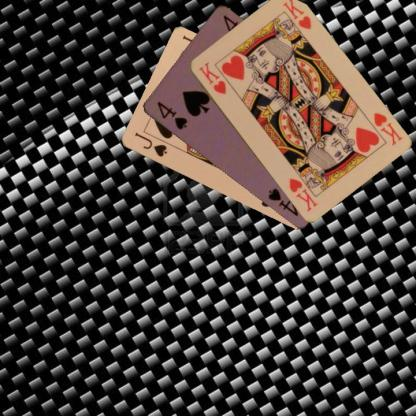4s: (154, 98, 188, 131)
Js: (132, 130, 168, 158)
Kh: (369, 109, 403, 147), (195, 59, 227, 96)
